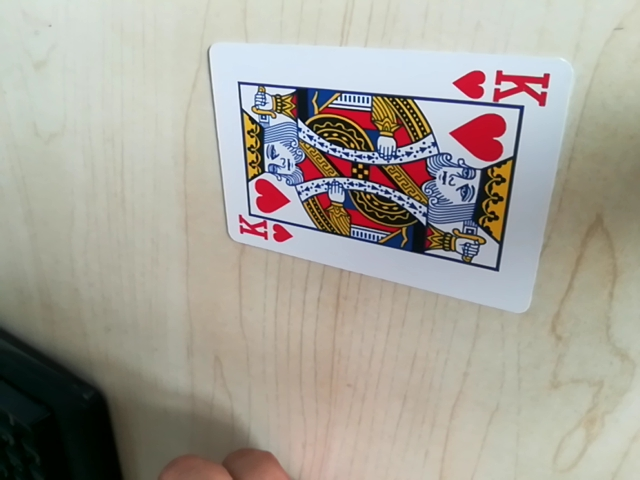hx k: (454, 63, 553, 109), (234, 219, 292, 249)
